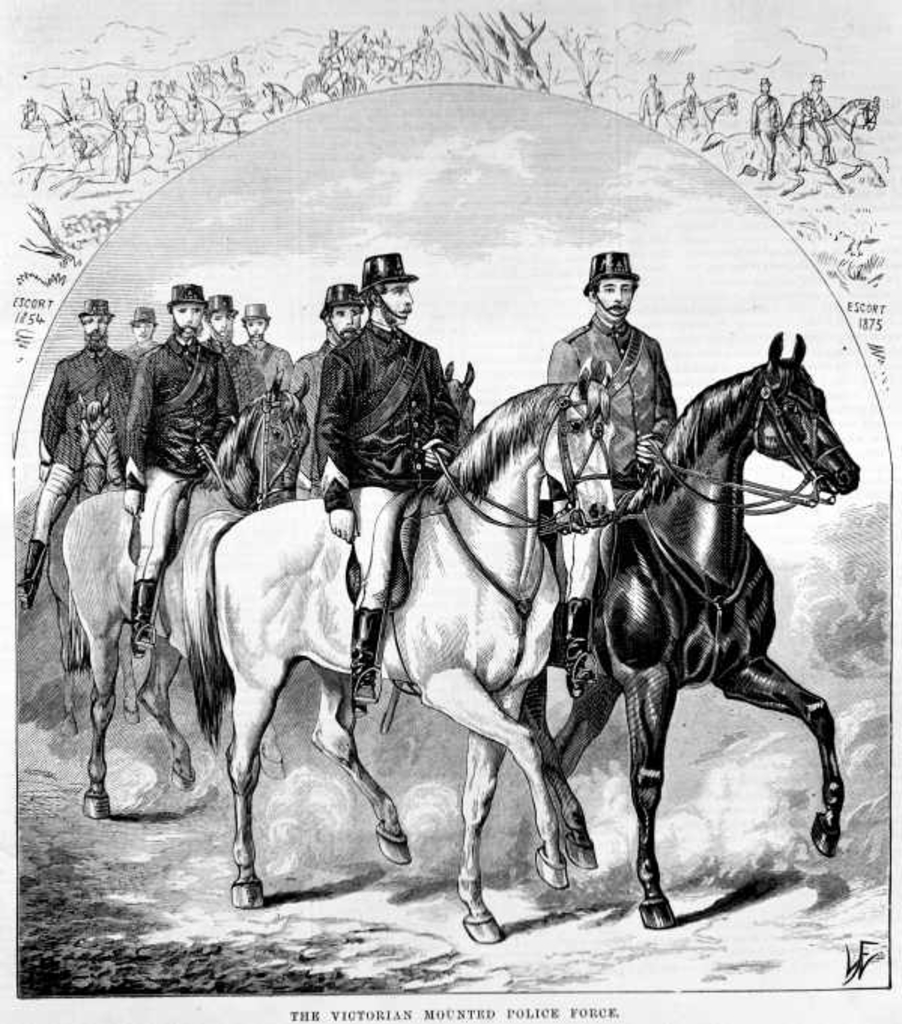Person: (2, 277, 369, 662)
